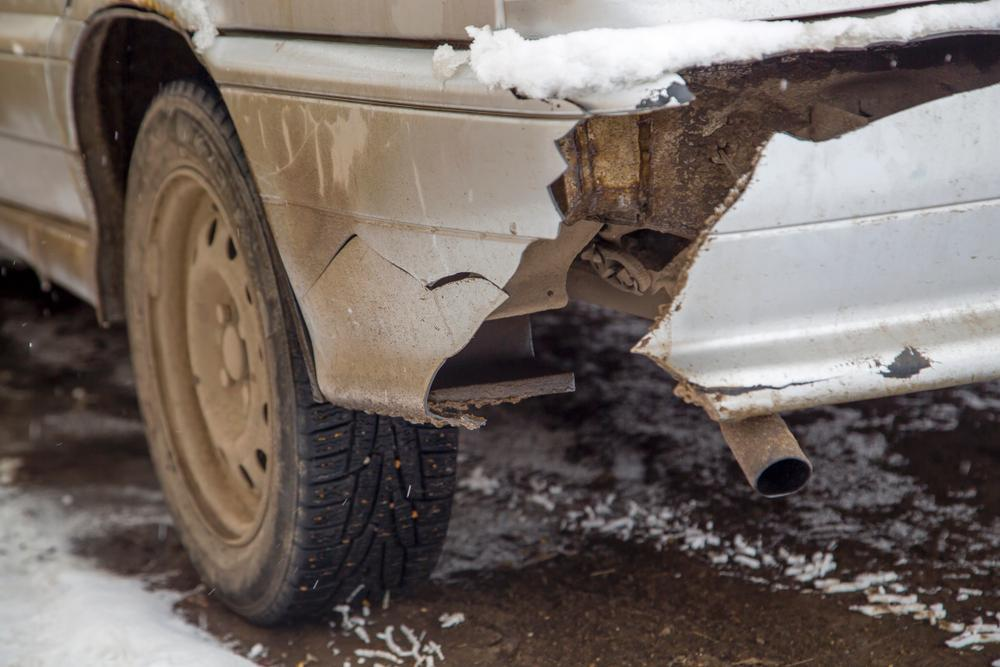crack: (297, 30, 1000, 423), (696, 374, 846, 396)
